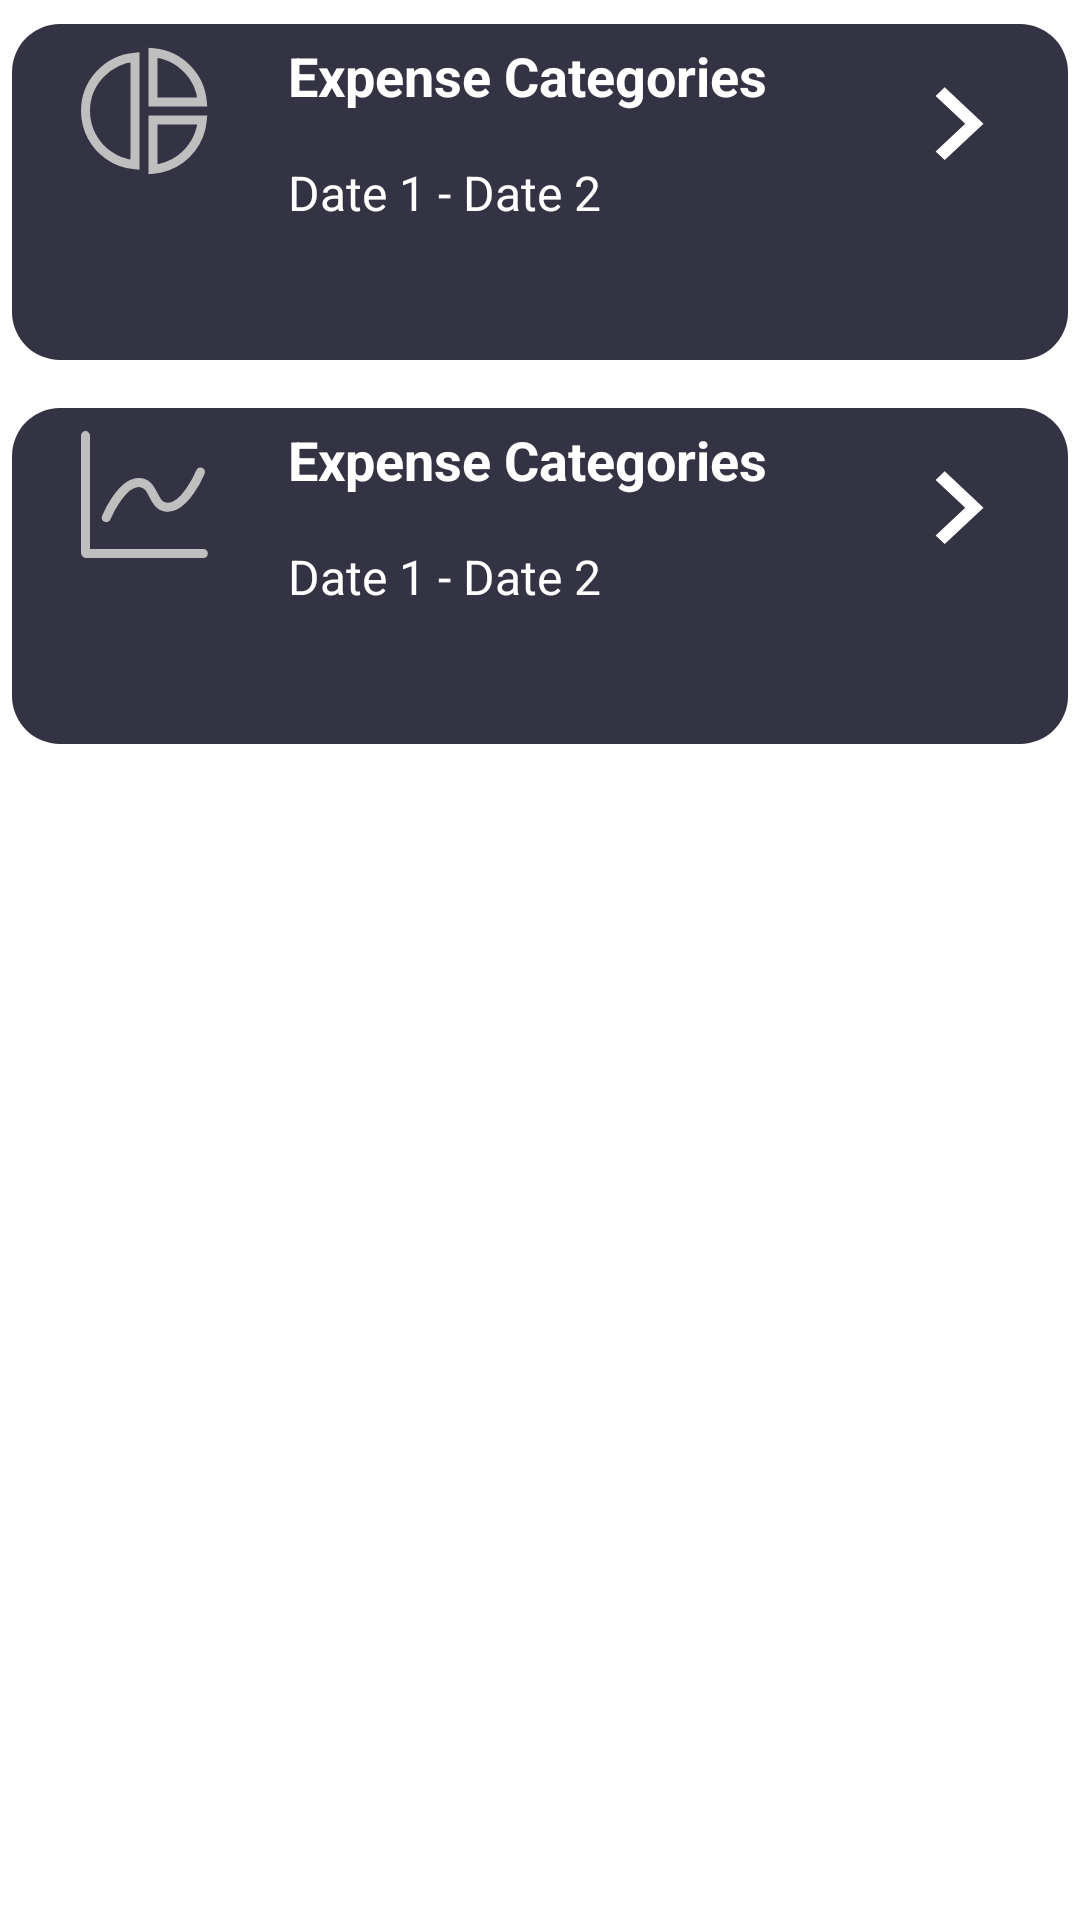

Screen size 1080w x 1920h. Icon name, then its box in pixels as (x1, y1, x2, y2):
arrow right bright: (935, 87, 984, 160), (935, 471, 984, 544)
line chart: (81, 431, 208, 558)
pie chart: (81, 48, 207, 174)
